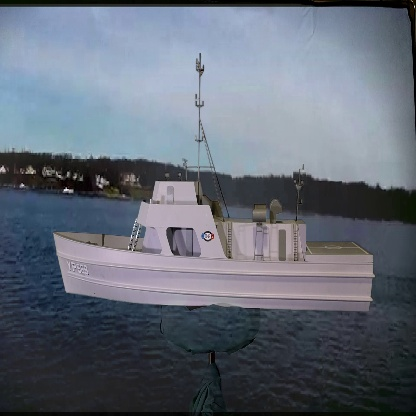YP689: (52, 50, 376, 315)
